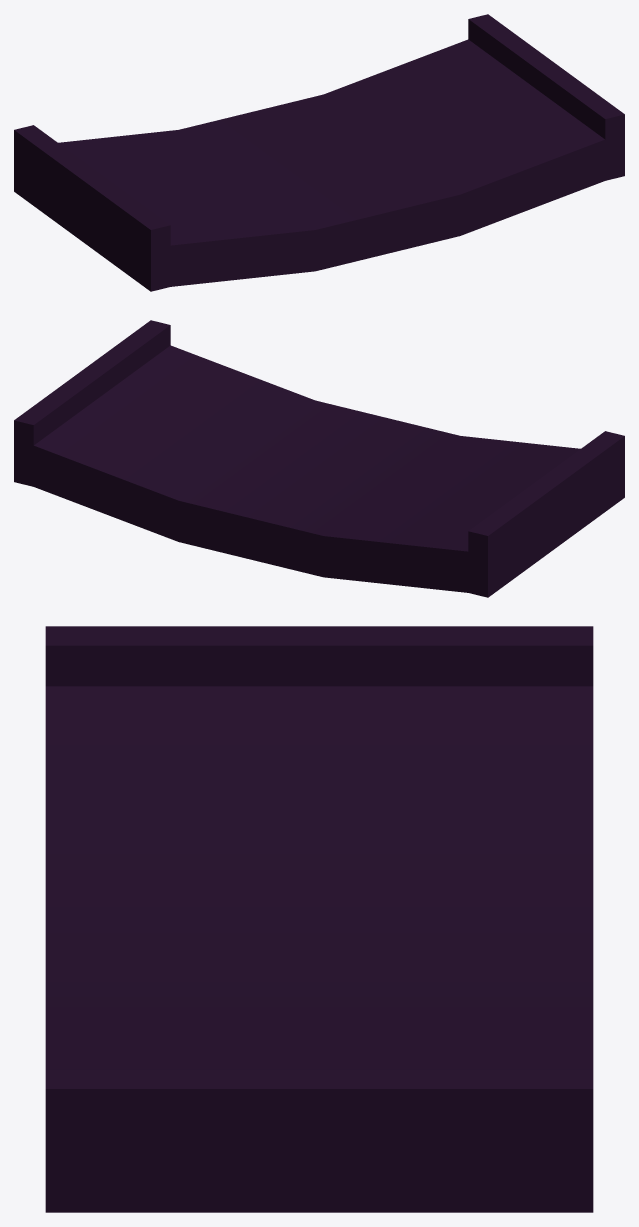
The model's file is track.obj.
3 views of the same model, one above another, from view 1: azimuth 30°, elevation 25°; view 2: azimuth 150°, elevation 25°; view 3: azimuth 270°, elevation 25° (orthographic). The views are drawn at different scales.
Bounding box in the file's own units: 12 × 1.97 × 6.
